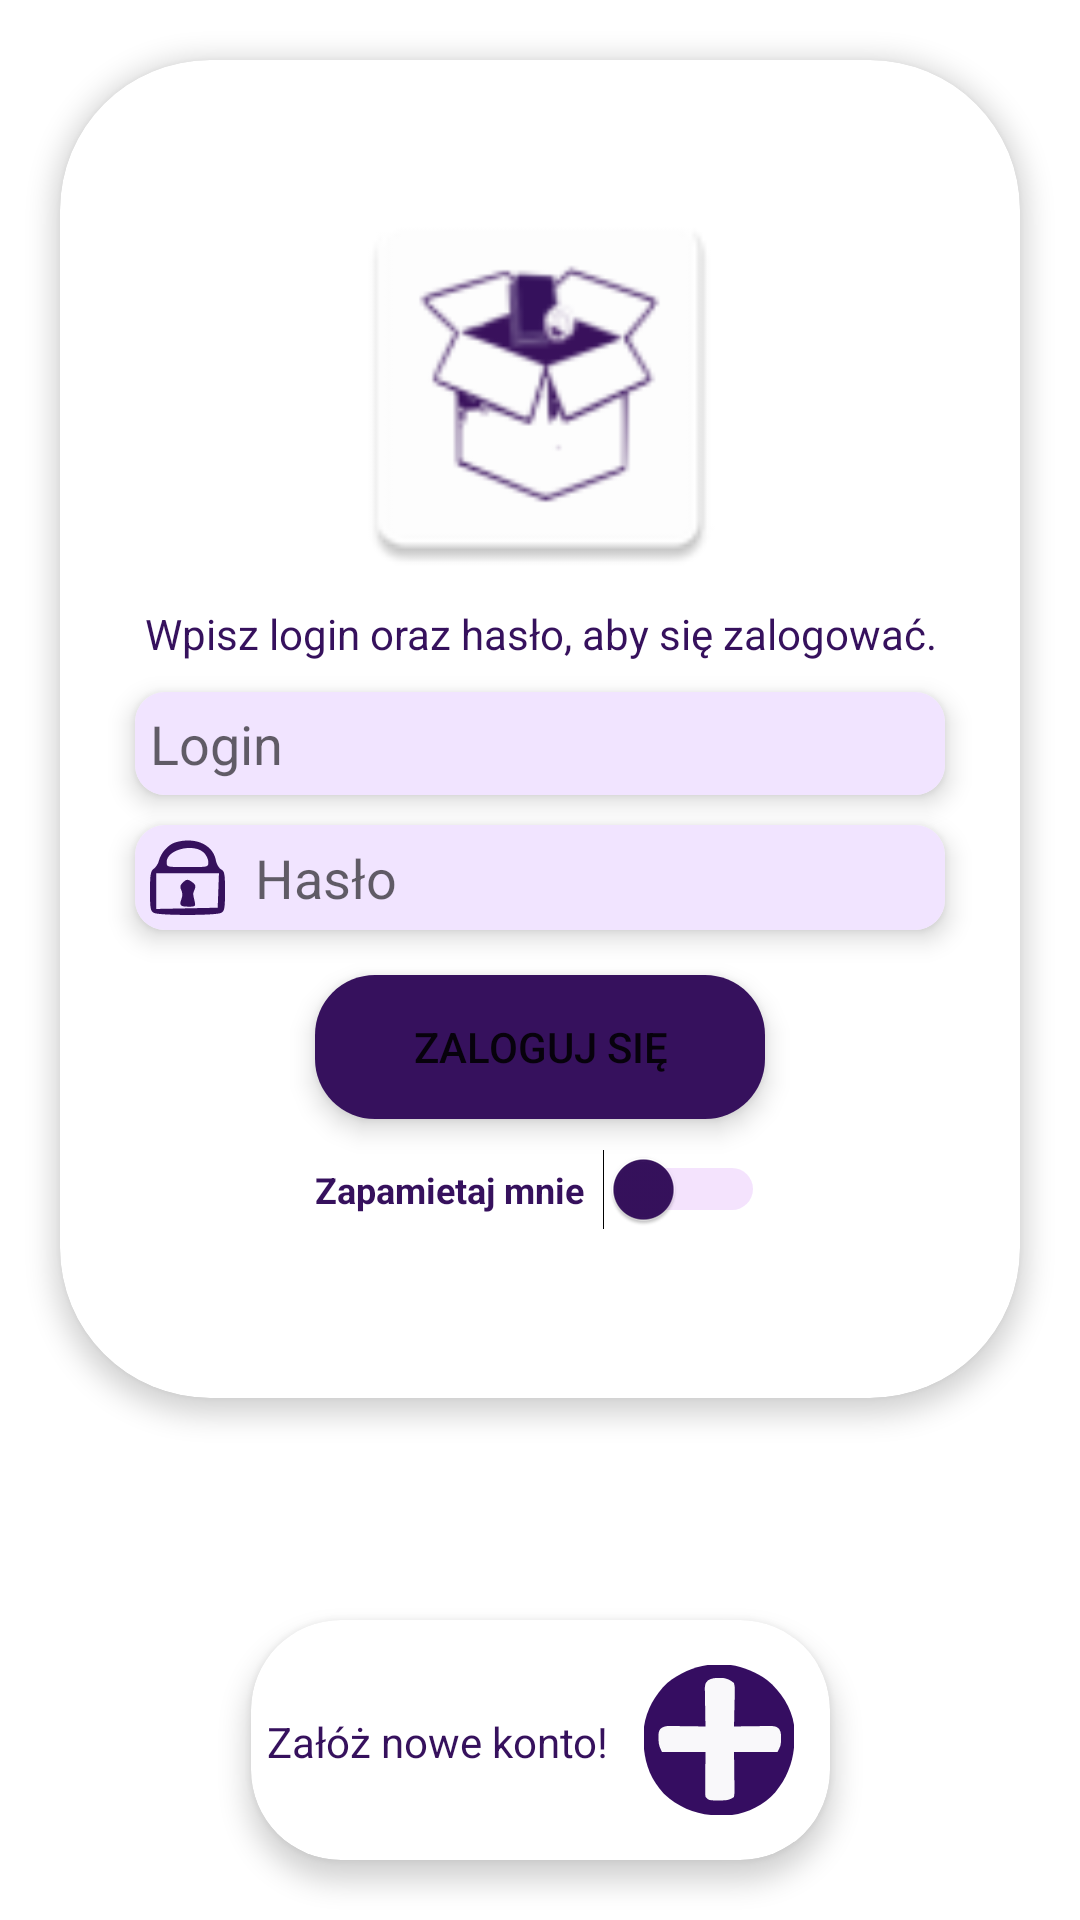

Locate icon controls on the screen. Image size 1080x1920, boxes as (x1, y1, x2, y2).
add: (644, 1665, 828, 1815)
